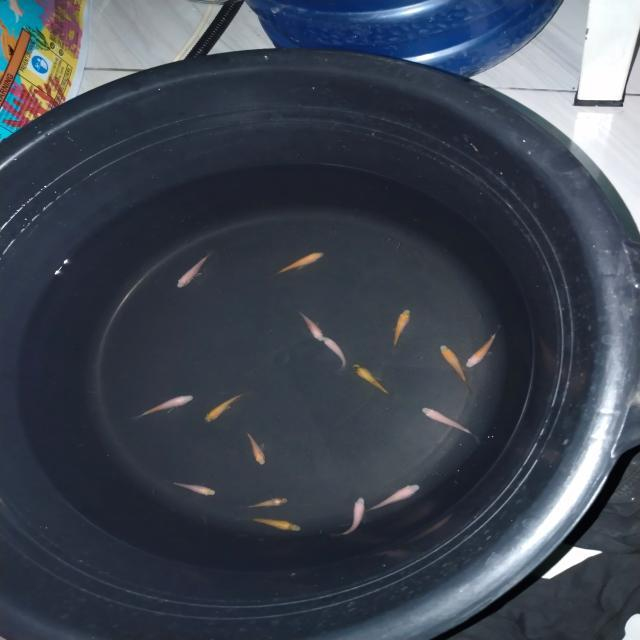nila: (435, 343, 478, 398), (420, 406, 482, 440), (125, 392, 197, 420), (461, 322, 503, 370), (352, 363, 400, 402), (362, 482, 422, 512), (266, 250, 326, 278), (174, 250, 216, 290), (330, 495, 368, 538), (200, 391, 249, 424), (290, 306, 324, 342), (238, 514, 305, 532), (390, 306, 412, 354), (242, 428, 268, 468), (166, 478, 217, 498), (323, 336, 348, 372), (238, 493, 290, 510)
